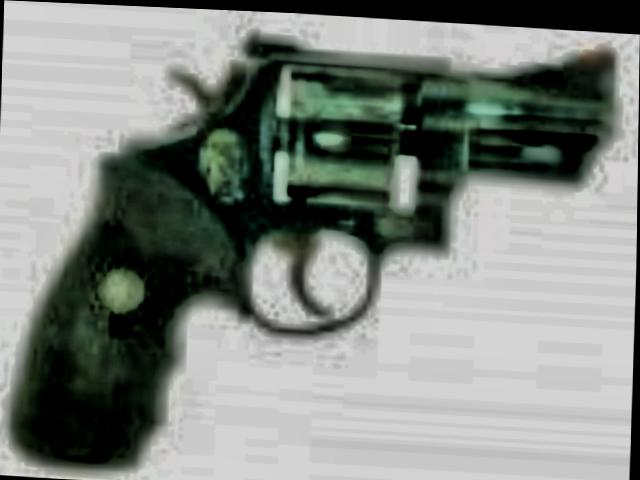pistol: (7, 0, 620, 480)
